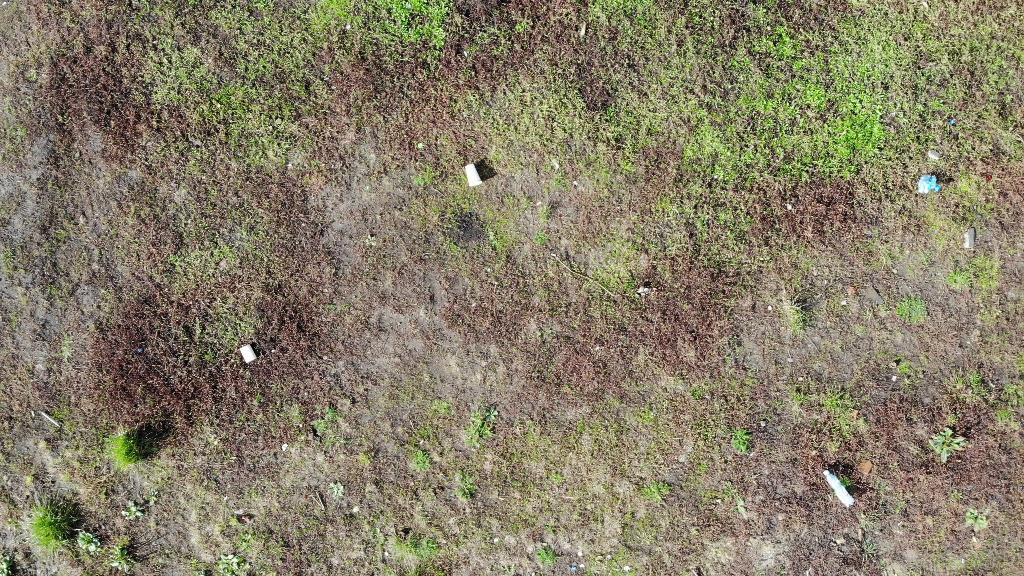garbage: (820, 467, 857, 510), (822, 469, 855, 509), (912, 171, 946, 199), (460, 162, 485, 190), (237, 341, 261, 367), (914, 173, 940, 194), (463, 162, 484, 188), (238, 342, 259, 362)
